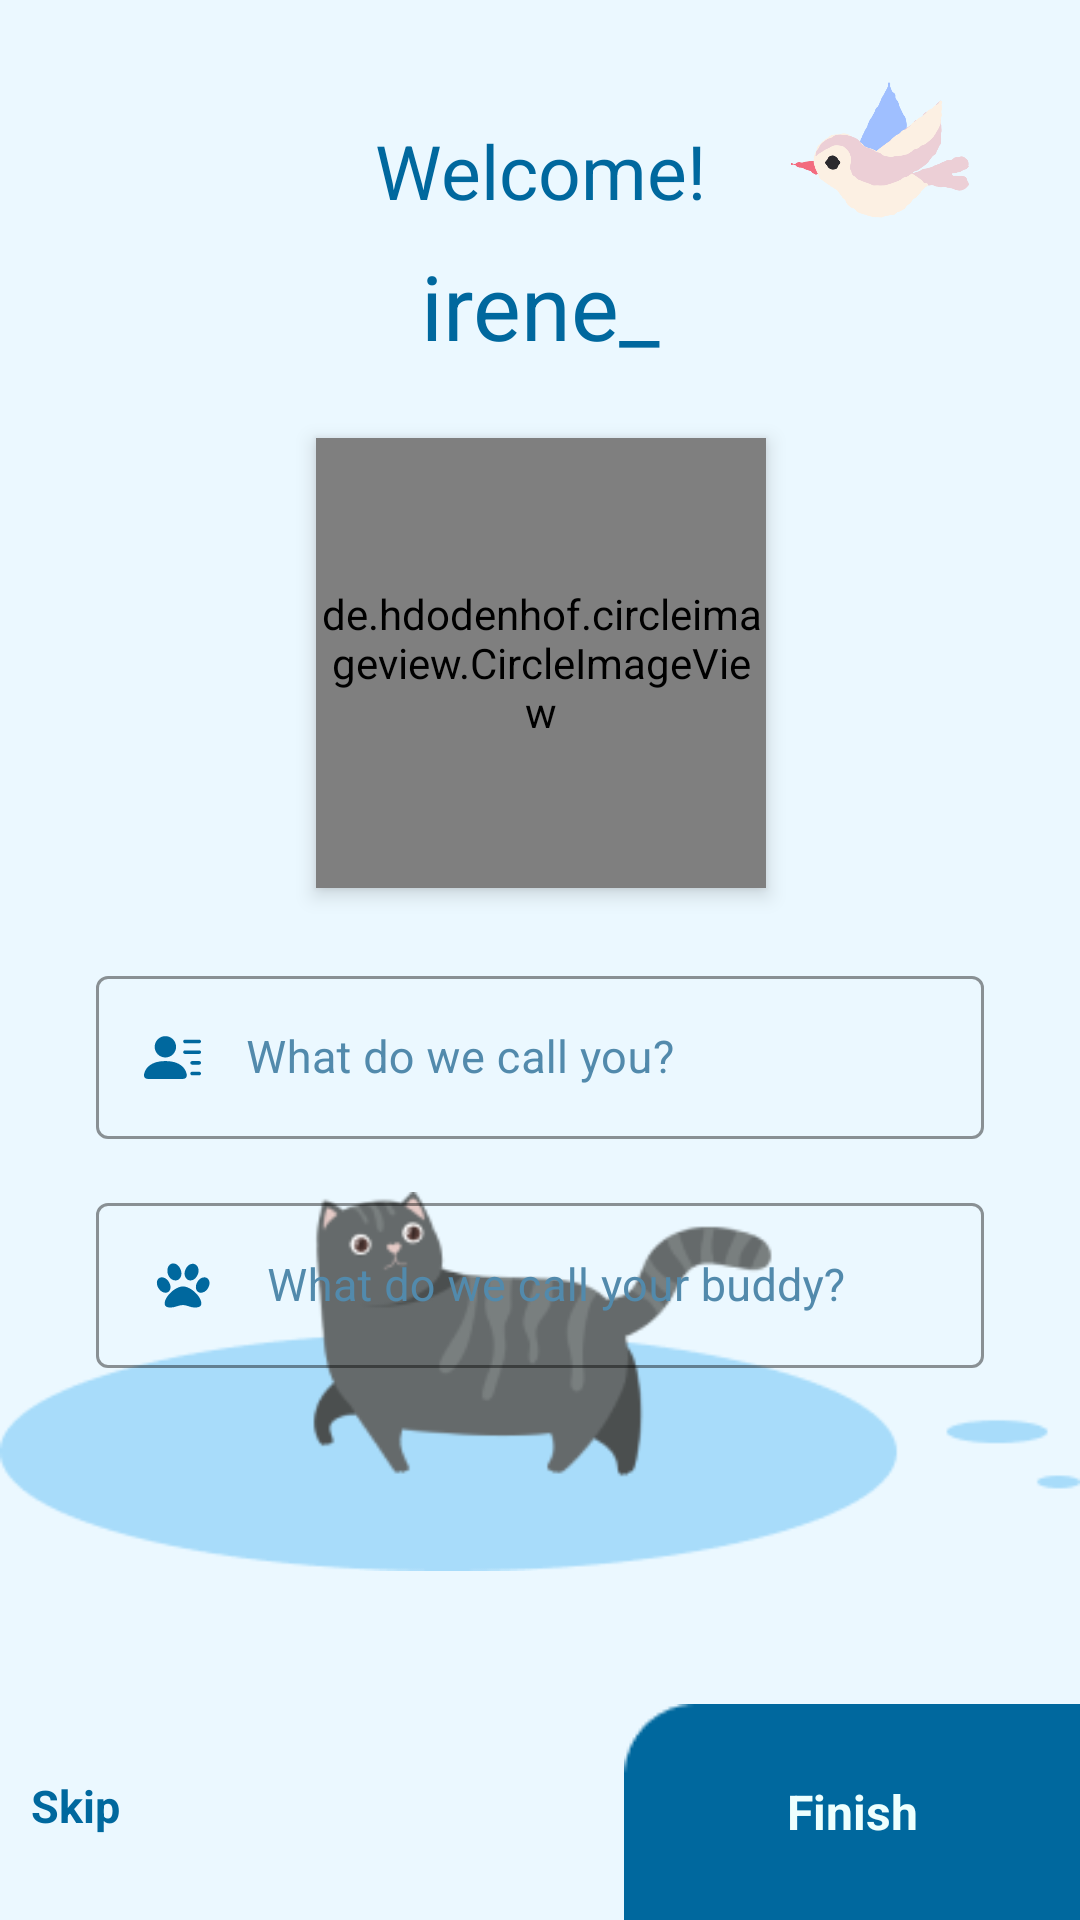

Icon bounding boxes for this 1080*1920 phone screenshot, format region(x1, y1, x2, y2):
figure bird: region(791, 82, 969, 217)
